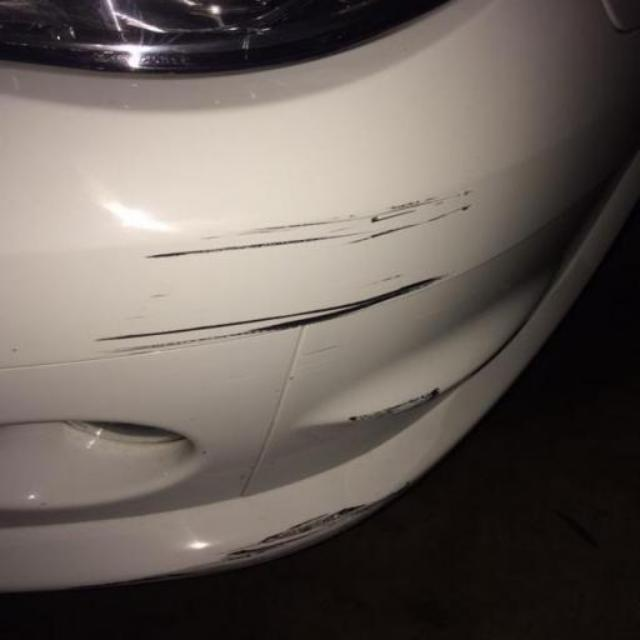crack: (96, 190, 480, 358), (339, 388, 444, 428)
scratch: (76, 483, 408, 587)
